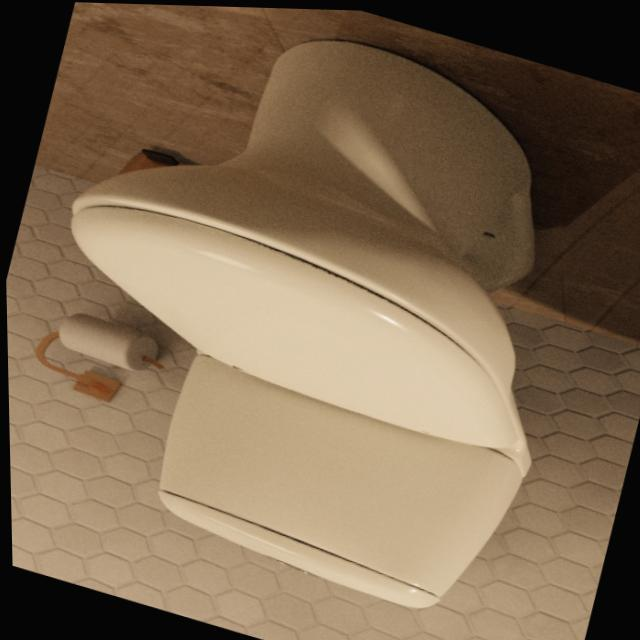toilet: (0, 0, 624, 632)
